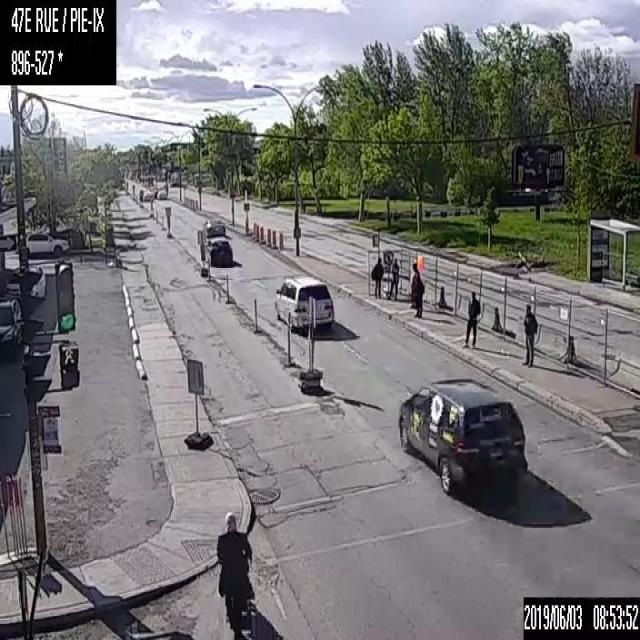construction: (283, 324, 292, 365), (251, 297, 260, 332), (225, 273, 230, 302), (278, 232, 284, 251), (272, 227, 276, 247), (266, 226, 270, 246), (254, 222, 258, 242), (258, 224, 262, 243)
pedestrian: (214, 511, 254, 638), (462, 291, 480, 348), (522, 304, 536, 367), (408, 263, 424, 317), (386, 258, 398, 302), (371, 254, 383, 298)
vehicle: (398, 375, 528, 492), (272, 273, 334, 332), (3, 263, 48, 307), (0, 299, 25, 360), (25, 229, 68, 256), (207, 235, 232, 267), (202, 215, 226, 237), (138, 187, 146, 200), (142, 190, 152, 200), (157, 189, 166, 198), (152, 188, 158, 197)
